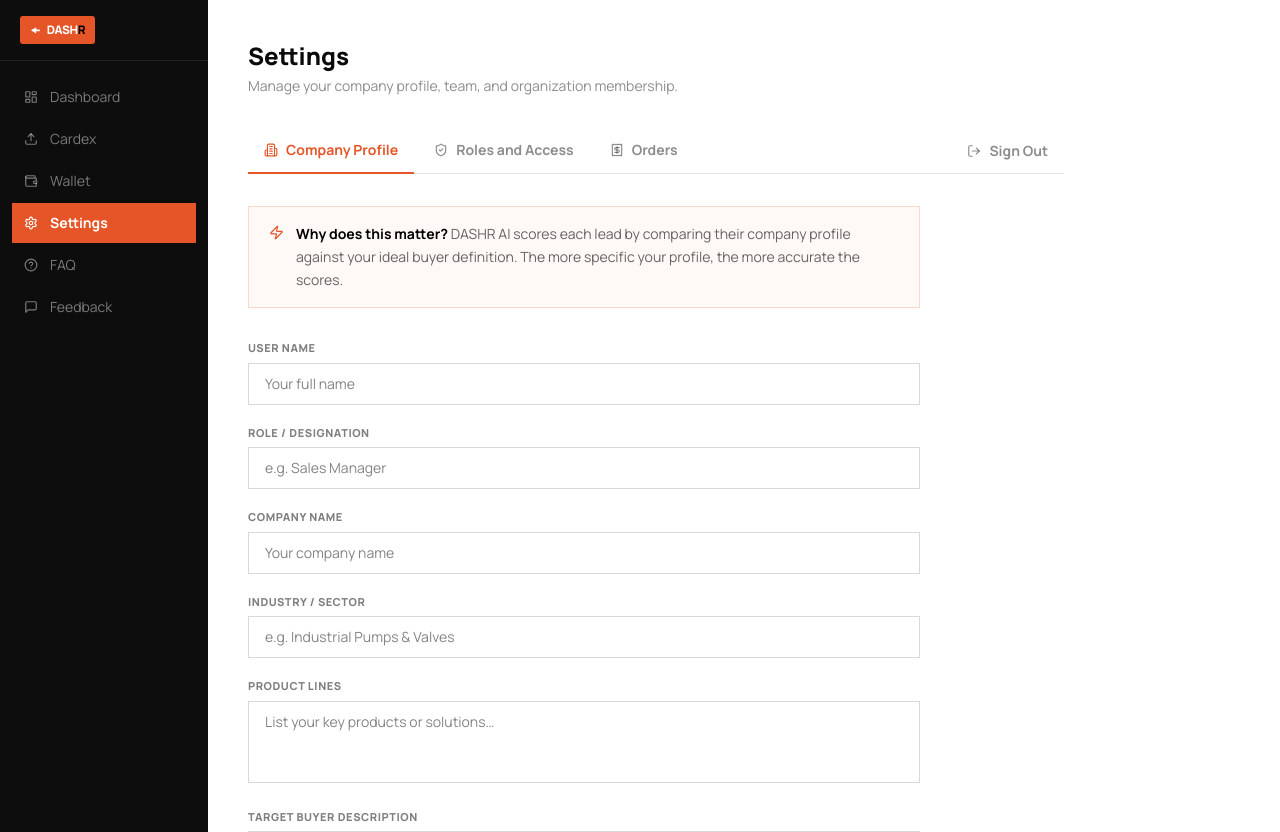
Test: /settings -- admin view › sends an invite and shows it in the pending list
Click the button "Roles and Access" at (504, 151), box [418,128,590,174]
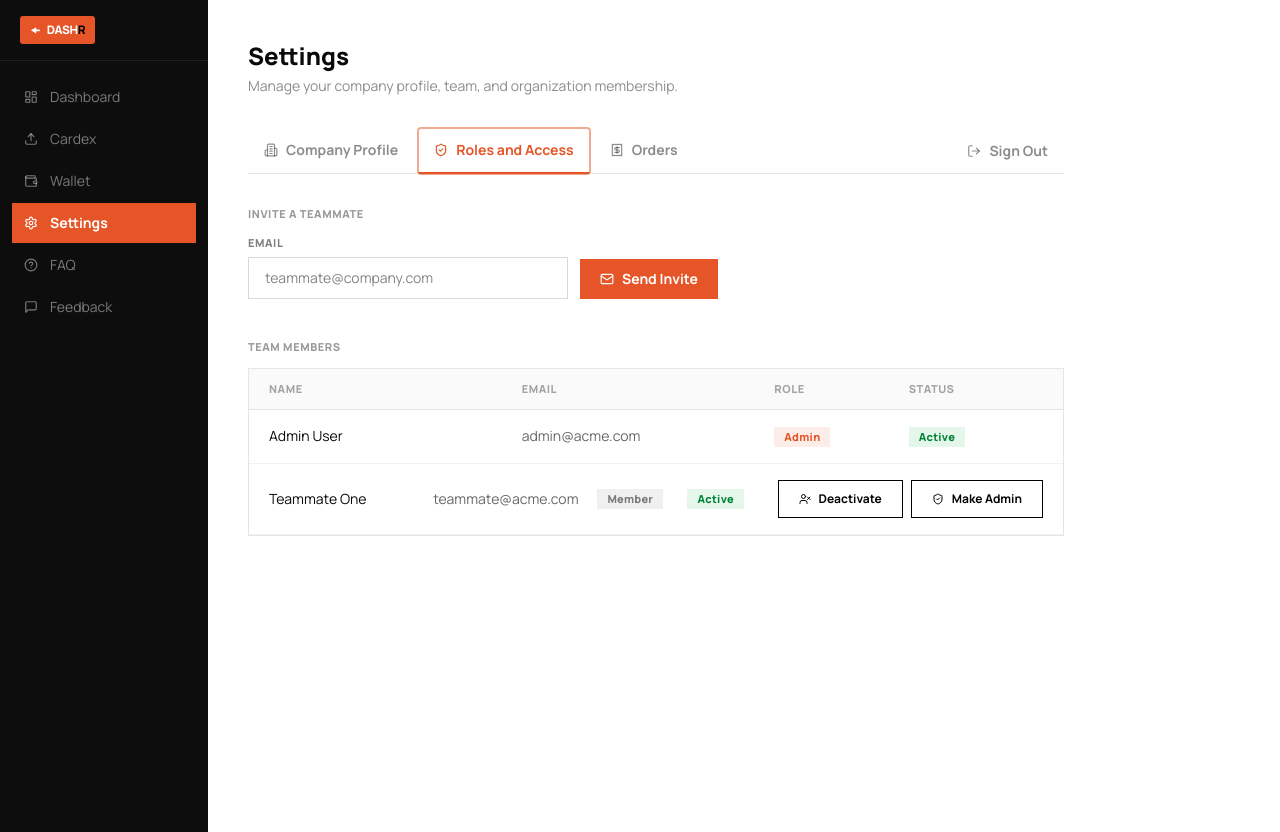
expect the heading "Invite a Teammate" is shown: met, box [248,206,364,221]
Type "newhire@acme.com" into the field with placeholder "teammate@company.com" at (408, 278), box [248,257,568,299]
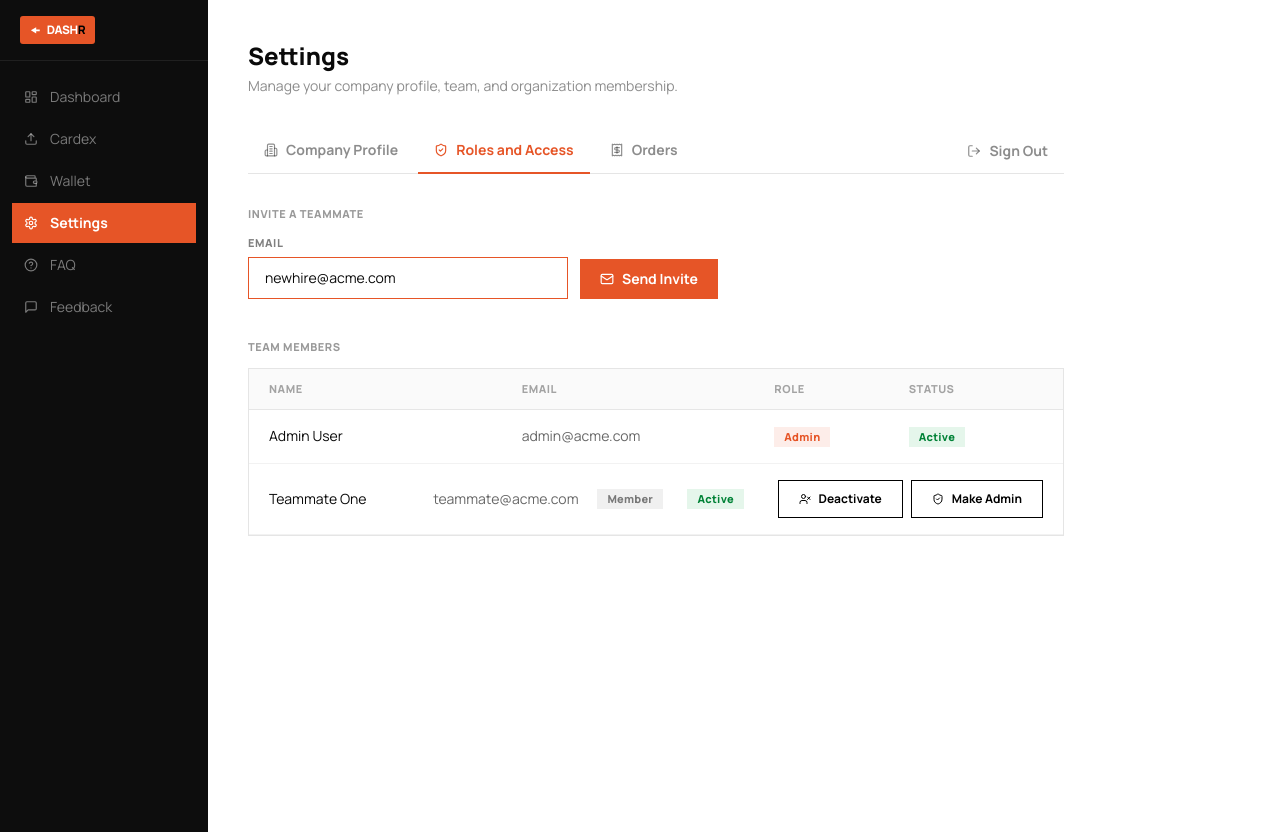
Click the button "Send Invite" at (649, 279), box [580,259,718,299]
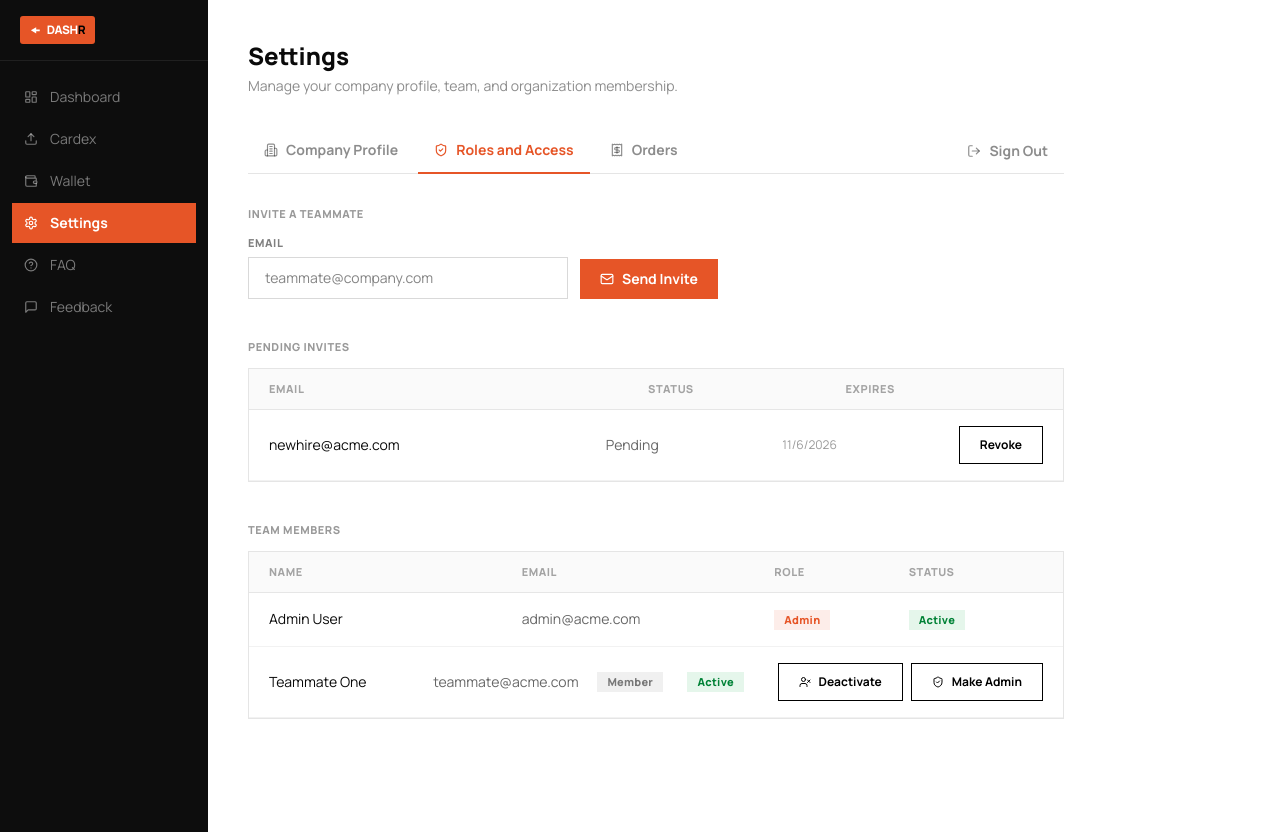
expect the text "newhire@acme.com" is shown: met, box [269,435,400,454]
